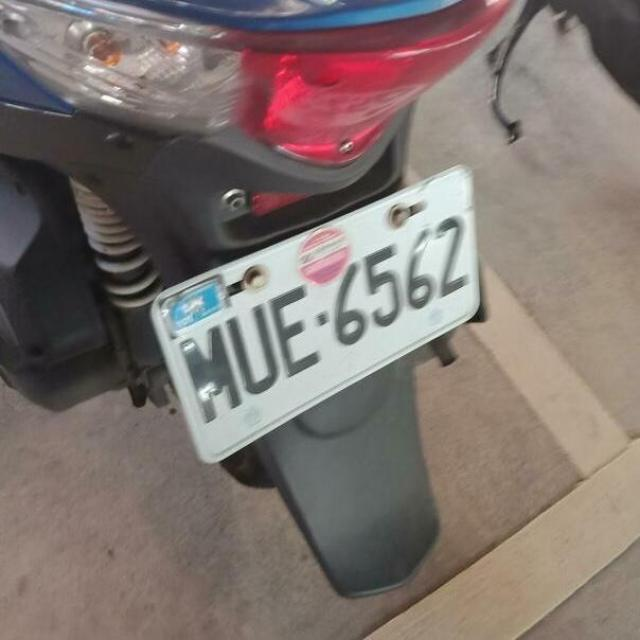W: (125, 161, 512, 465)
